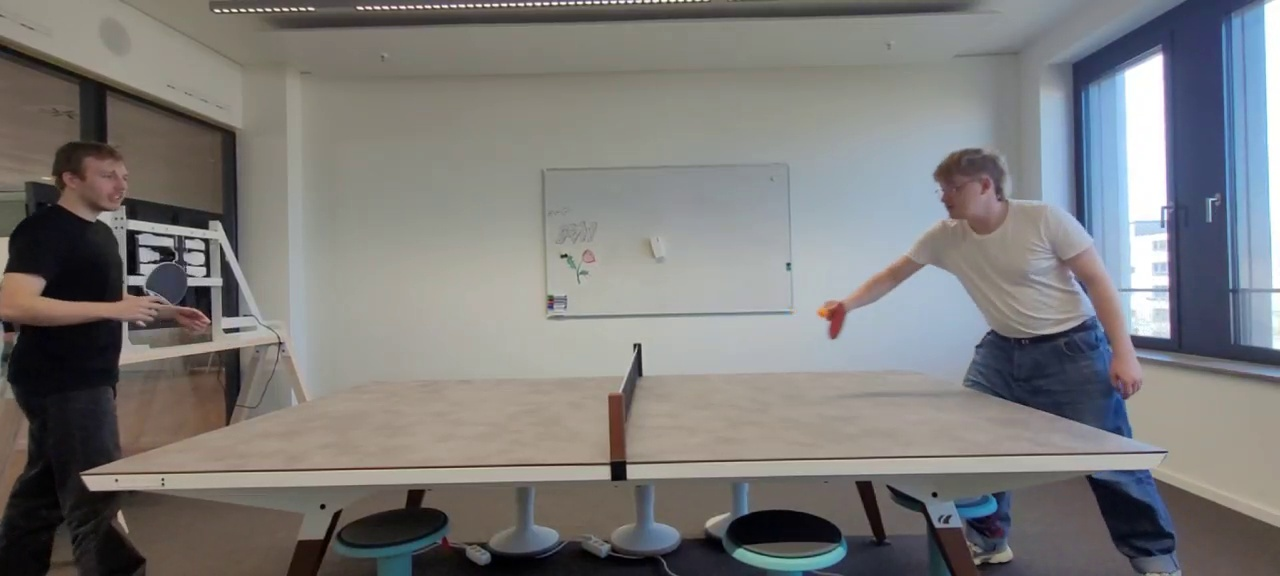plate: (81, 370, 1165, 473)
racket: (144, 262, 187, 306), (830, 303, 845, 339)
ttball: (817, 307, 828, 318)
